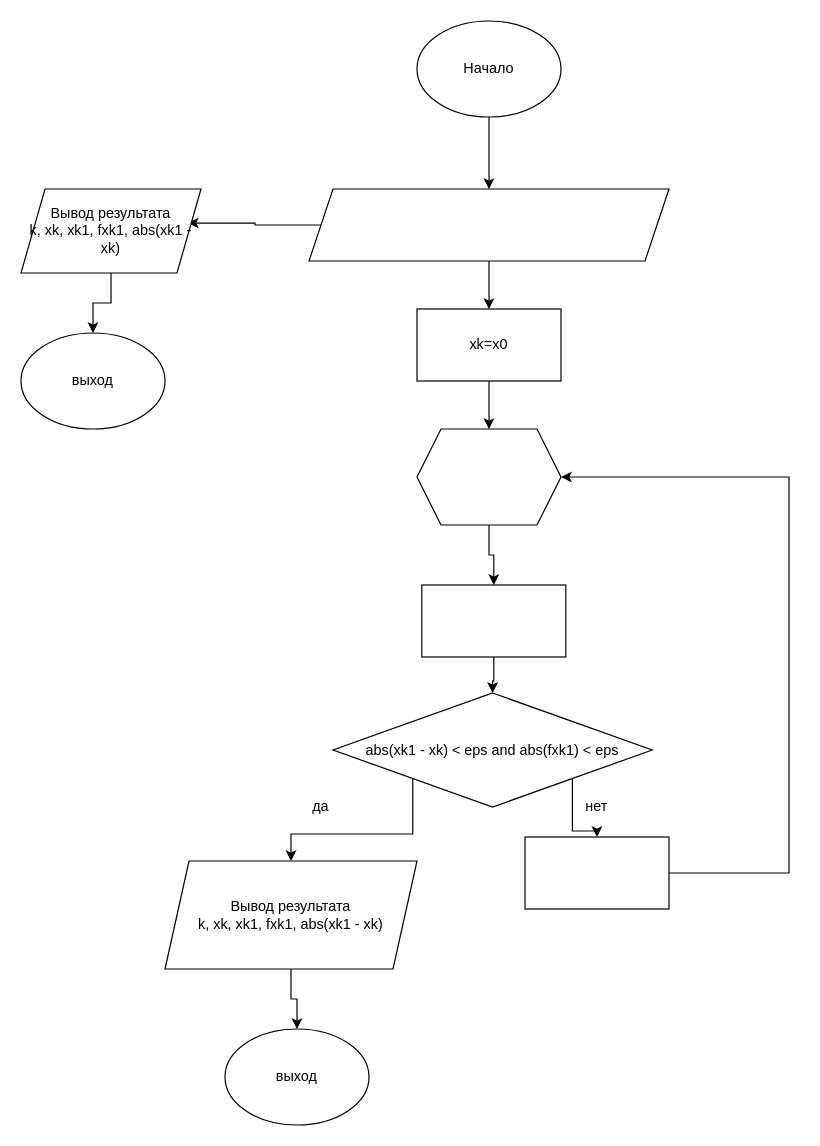
This 820x1146 diagram has some shape labels left out. The shapes that lost their labels are listed below. From the top down, each one's centre as x and y in pixels, then its label:
the point at 488,224: f, phi, x0, eps, max_iter
the point at 488,476: k= 1, max_iter
the point at 493,620: xk1 = phi(xk) fxk1=f(xk1)
the point at 596,872: xk=xk1
